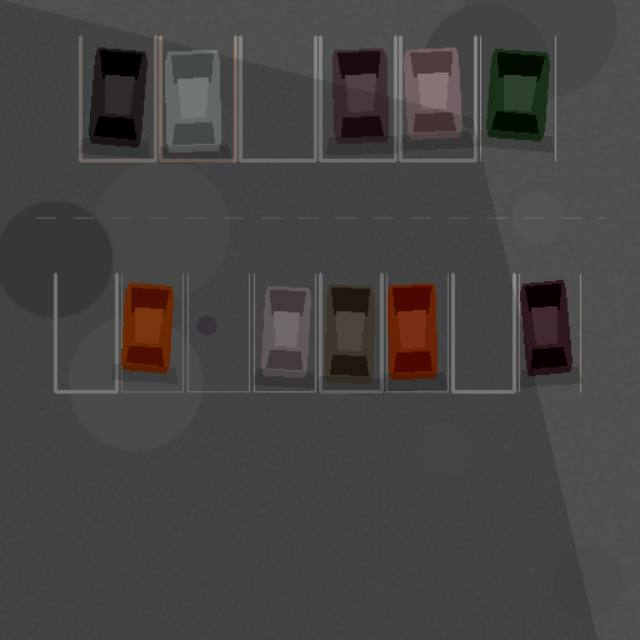space-empty: (240, 36, 315, 160), (187, 274, 249, 391), (55, 274, 116, 391), (453, 274, 514, 391)
space-occupied: (80, 36, 155, 160), (160, 36, 235, 160), (320, 36, 395, 160), (400, 36, 475, 160), (480, 36, 555, 160), (121, 274, 183, 391), (254, 274, 315, 391), (320, 274, 381, 391), (386, 274, 447, 391), (519, 274, 580, 391)
